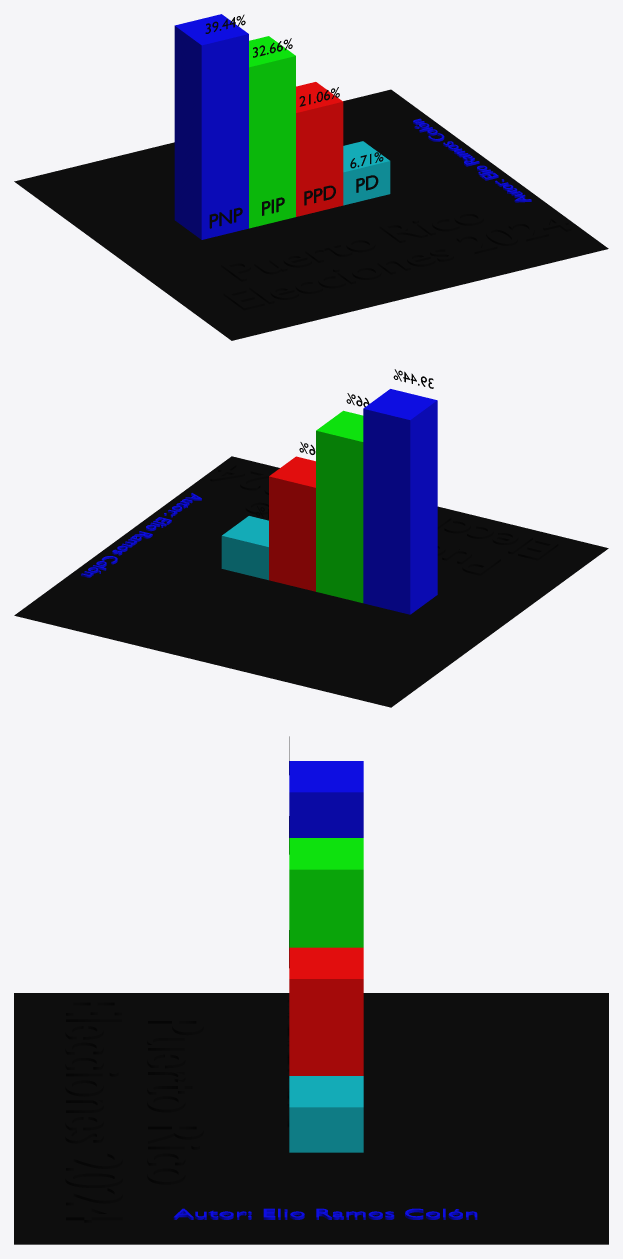
File: elecciones3d.obj
3 renders of one model, top to bottom at view 1: azimuth 30°, elevation 25°; view 2: azimuth 150°, elevation 25°; view 3: azimuth 270°, elevation 25°, orthographic. The views are drawn at different scales.
Visible parts, largest first — view 1: Plane, Cube, Cube.001, Mensaje_Text, Cube.002, Cube.003, autor_Text; view 2: Plane, Cube, Cube.001, Cube.002, Mensaje_Text, Cube.003, autor_Text; view 3: Plane, Mensaje_Text, Cube.002, Cube.001, Cube, Cube.003, autor_Text.
Part boxes in pixels (<box>): Plane: <box>14,89,608,340</box>; Cube: <box>174,14,248,239</box>; Cube.001: <box>249,36,295,228</box>; Mensaje_Text: <box>221,211,571,310</box>; Cube.002: <box>296,82,343,216</box>; Cube.003: <box>343,141,390,205</box>; autor_Text: <box>413,118,531,202</box>; Plane: <box>14,456,608,707</box>; Cube: <box>363,389,437,614</box>; Cube.001: <box>316,410,363,602</box>; Cube.002: <box>269,456,315,591</box>; Mensaje_Text: <box>210,464,558,575</box>; Cube.003: <box>221,516,268,580</box>; autor_Text: <box>81,493,201,577</box>; Plane: <box>14,993,608,1244</box>; Mensaje_Text: <box>65,999,203,1222</box>; Cube.002: <box>289,947,363,1075</box>; Cube.001: <box>289,838,363,947</box>; Cube: <box>289,761,363,837</box>; Cube.003: <box>289,1076,363,1152</box>; autor_Text: <box>173,1208,477,1219</box>.
Bounding box in the file's own units: 4 × 2.28 × 4.
